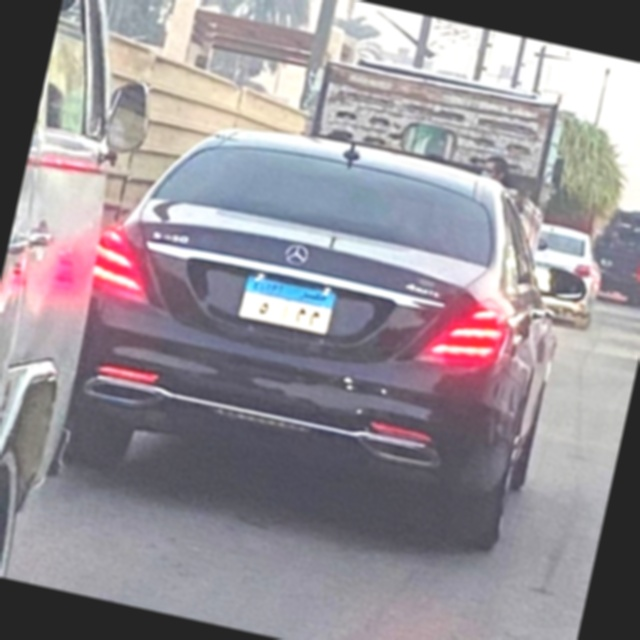License Plate: (237, 268, 341, 336)
